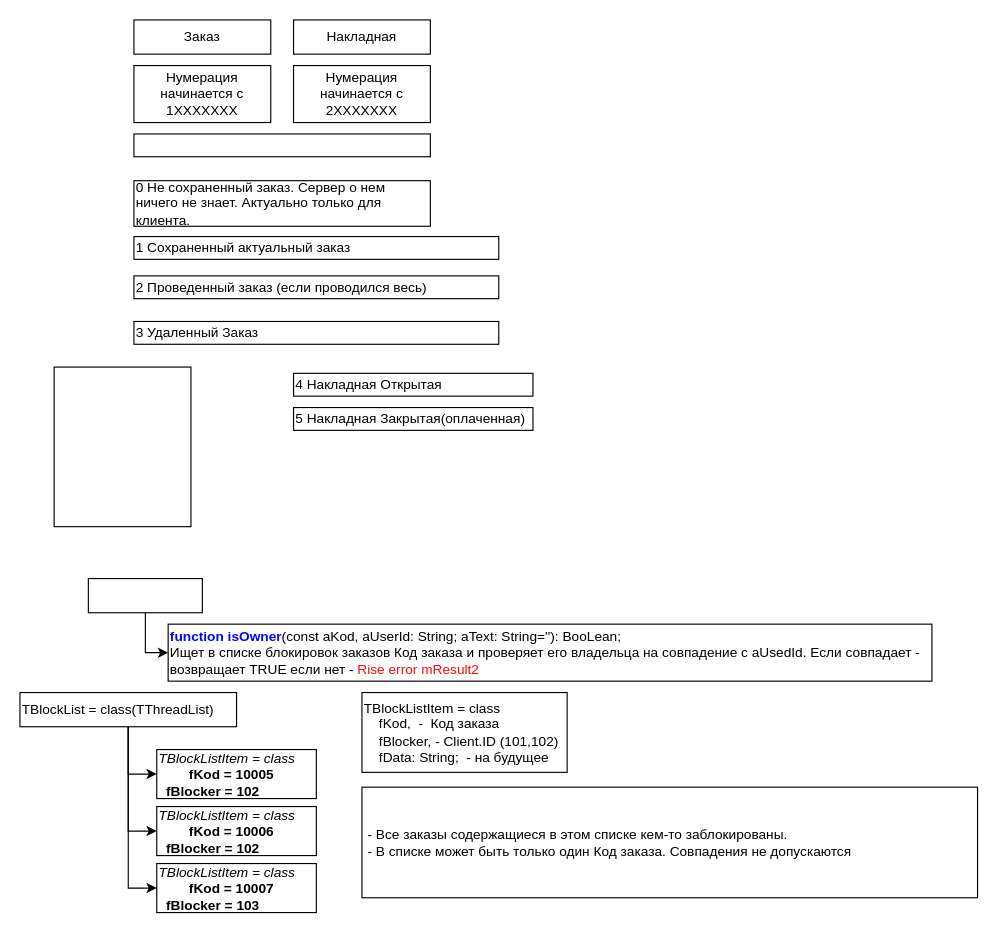
Image size: 998x933. Some labels were removed from this diagram. The shapes that lost their labels are listed below. From the top down, each one's centre as x and y in pixels, then its label:
(281,145): zState: Char
(122,446): zsNew = 0; zsActive = 1; zsClosed = 2; zsDeleted = 3; nsOpen = 4; nsClosed = 5;
(144,595): TZakaz = class
